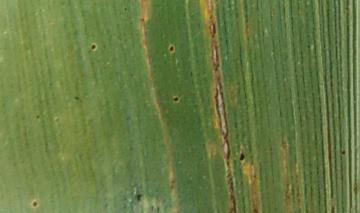tarspot: (135, 194, 143, 202), (238, 153, 246, 161), (168, 45, 175, 53), (32, 201, 39, 208), (91, 44, 96, 51), (172, 97, 179, 102), (73, 96, 79, 100), (341, 151, 345, 154)
